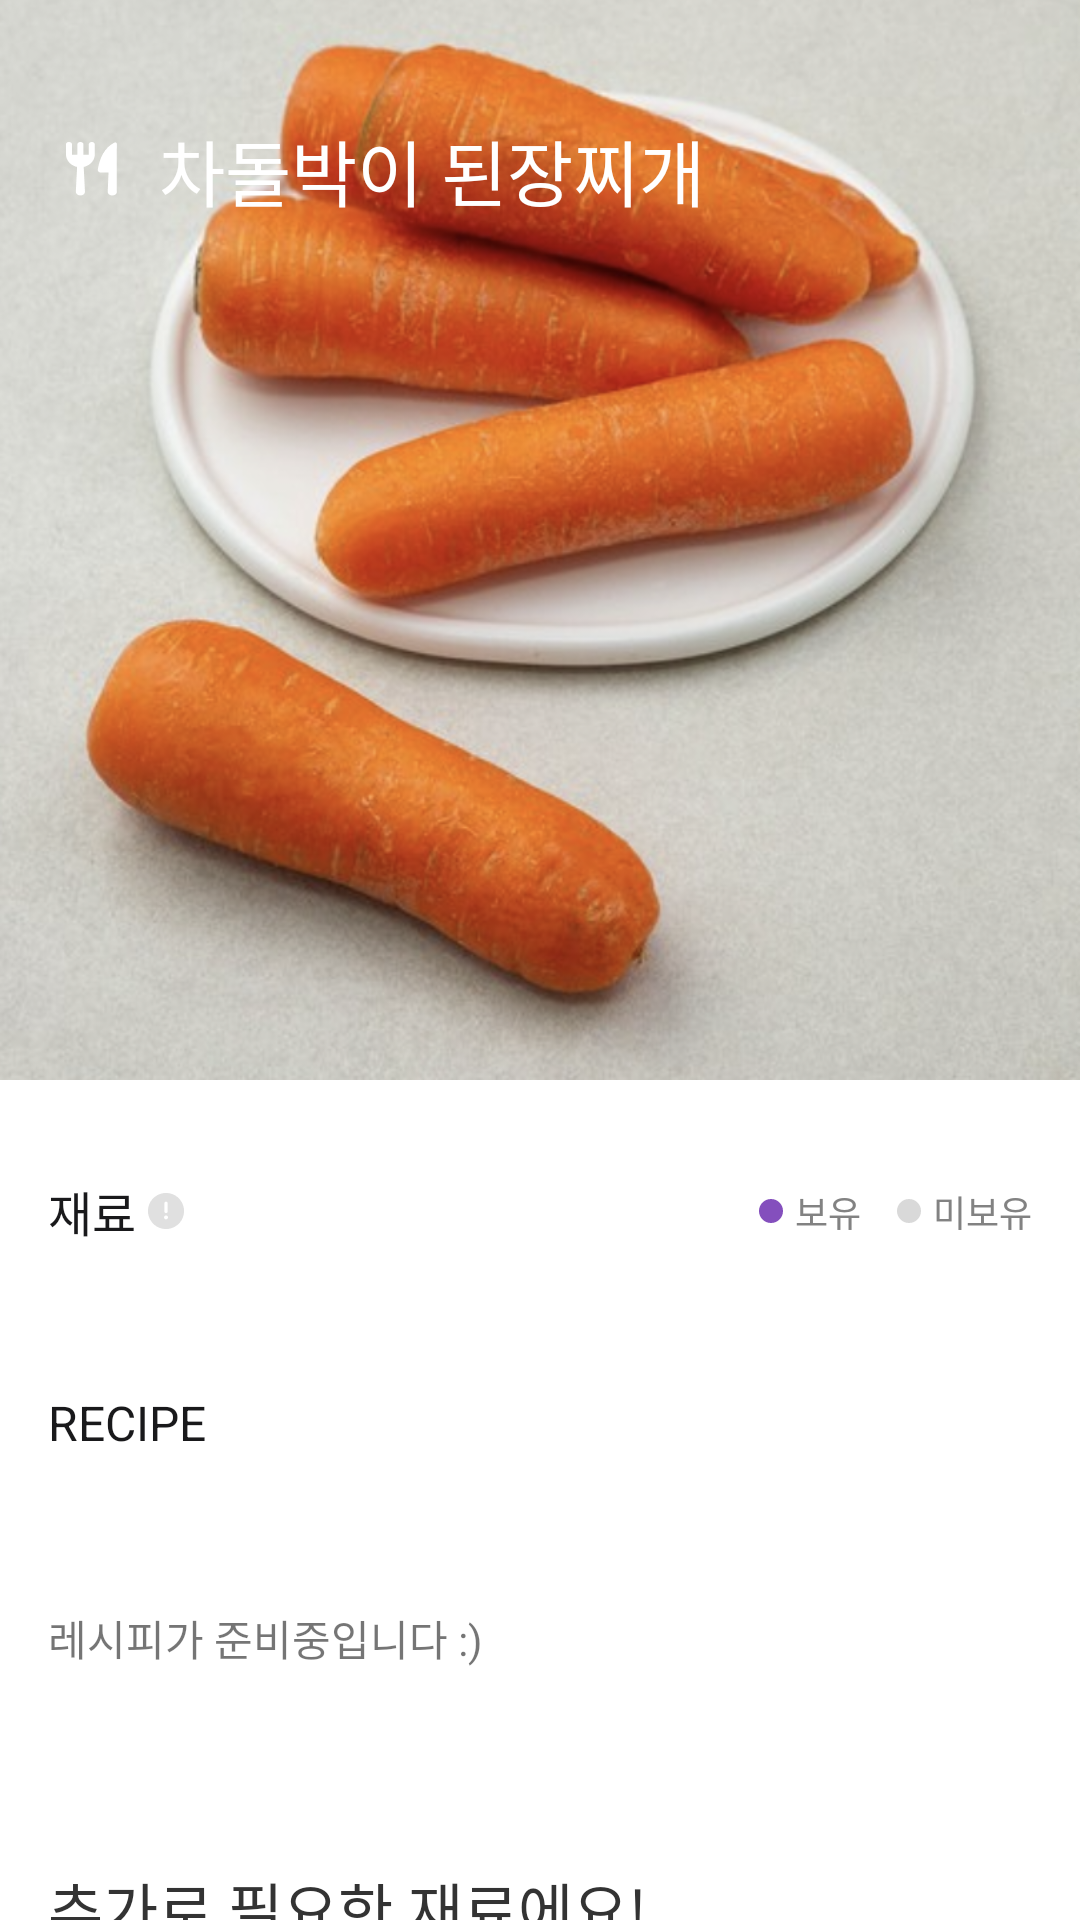

Point at icon controls on the screen. Image size 1080×1920, points as (x=x, y=y).
info: (x=166, y=1211)
